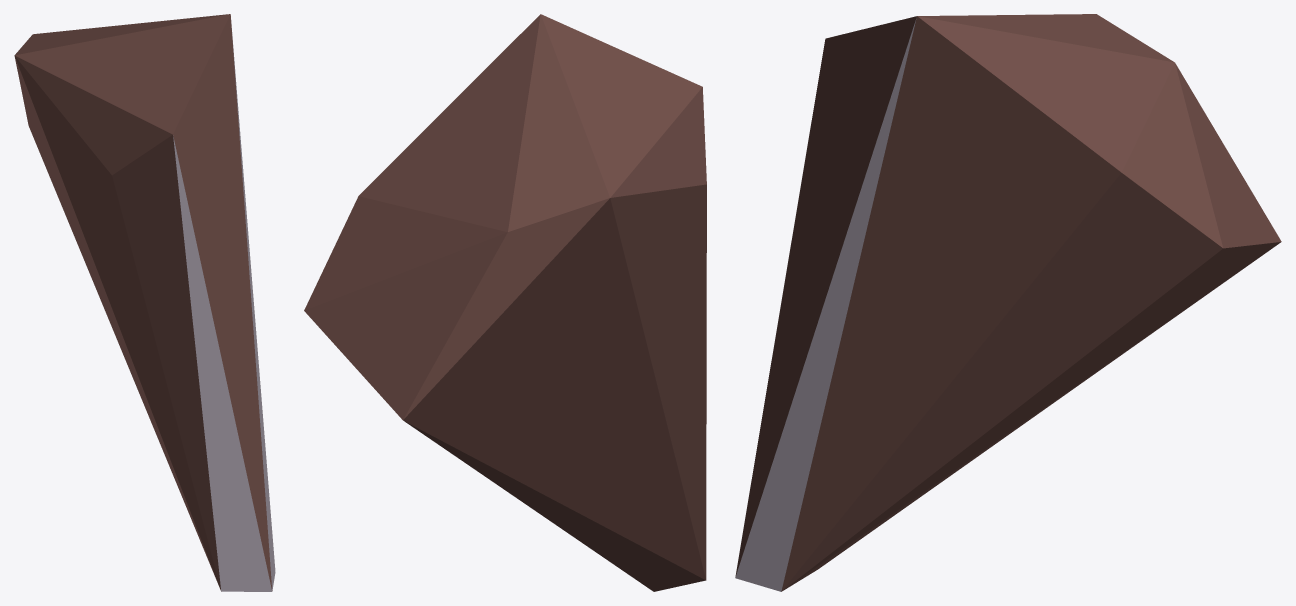
Rendered from Willow_Dead_Snow_2.lod4.glb.
The picture shows the model from 3 angles, left to right: view 1: azimuth 30°, elevation 25°; view 2: azimuth 150°, elevation 25°; view 3: azimuth 270°, elevation 25°; orthographic projection. The views are drawn at different scales.
Visible parts, largest first — view 1: Willow_Dead_Snow_2; view 2: Willow_Dead_Snow_2; view 3: Willow_Dead_Snow_2.
Part boxes in pixels (bbox=[...]): Willow_Dead_Snow_2: bbox=[14, 14, 275, 591]; Willow_Dead_Snow_2: bbox=[304, 14, 706, 591]; Willow_Dead_Snow_2: bbox=[735, 14, 1281, 591].
Bounding box in the file's own units: 1.19 × 2.83 × 2.4.
